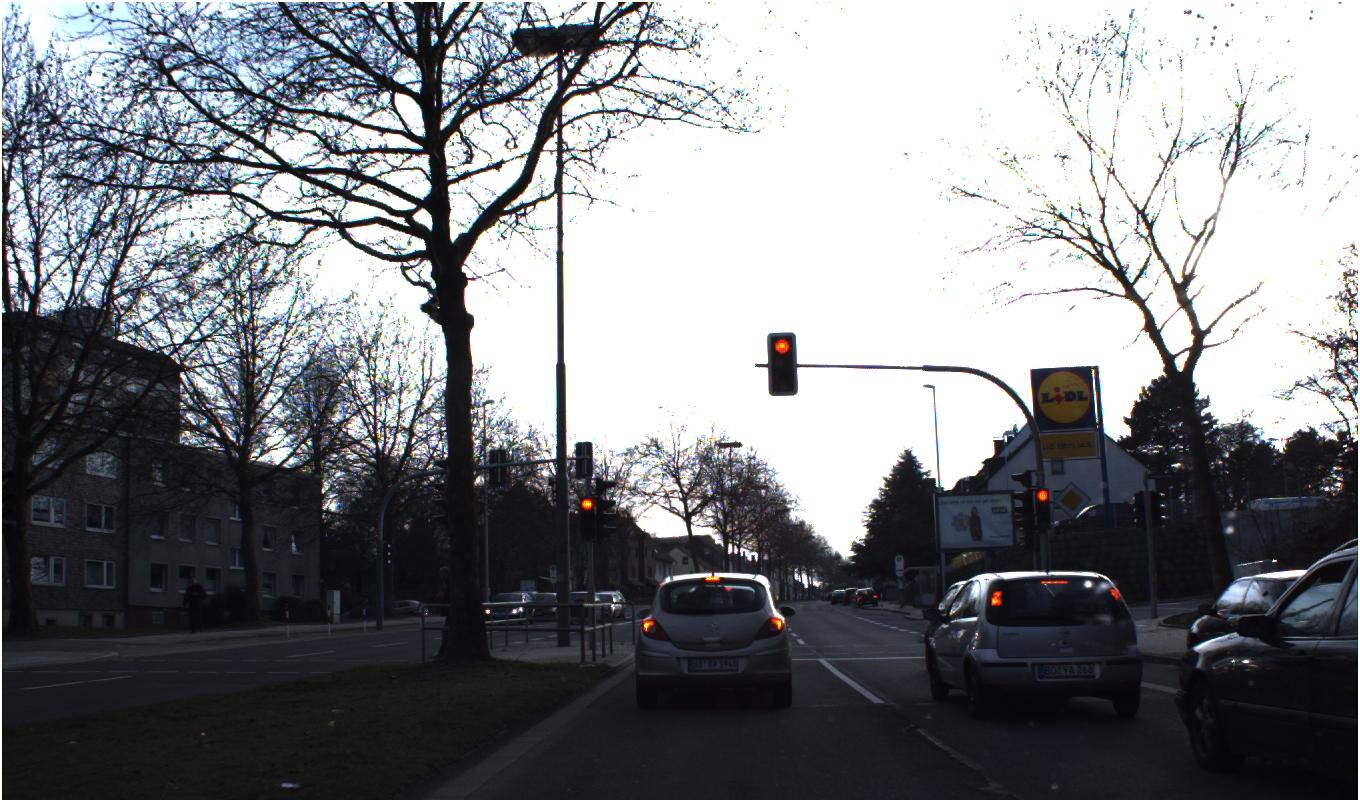sign: (1052, 480, 1092, 521)
